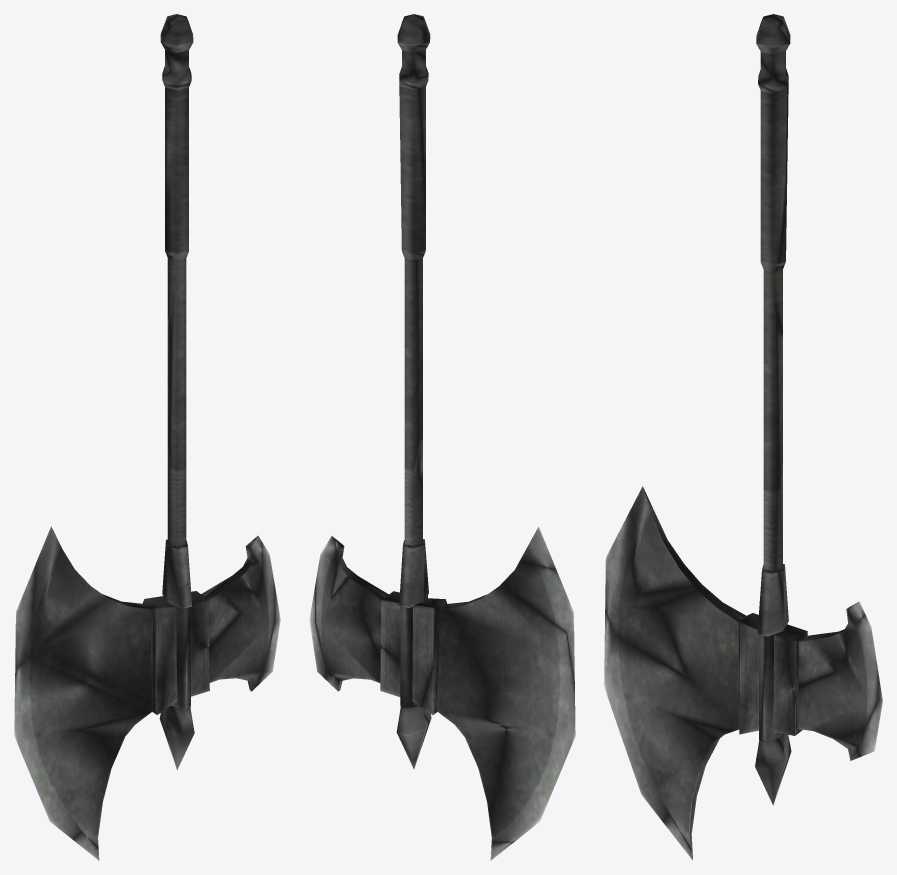
The picture shows the model from 3 angles, left to right: view 1: azimuth 30°, elevation 25°; view 2: azimuth 150°, elevation 25°; view 3: azimuth 330°, elevation 25°; orthographic projection. The views are drawn at different scales.
Visible parts, largest first — view 1: mesh0; view 2: mesh0; view 3: mesh0.
Part boxes in pixels (x1,y1,x2,y2): mesh0: [14, 14, 280, 860]; mesh0: [309, 14, 575, 860]; mesh0: [604, 14, 882, 860].
Bounding box in the file's own units: 0.3916 × 1.16 × 0.0597.
Materials: 1 (1 with a texture image).
